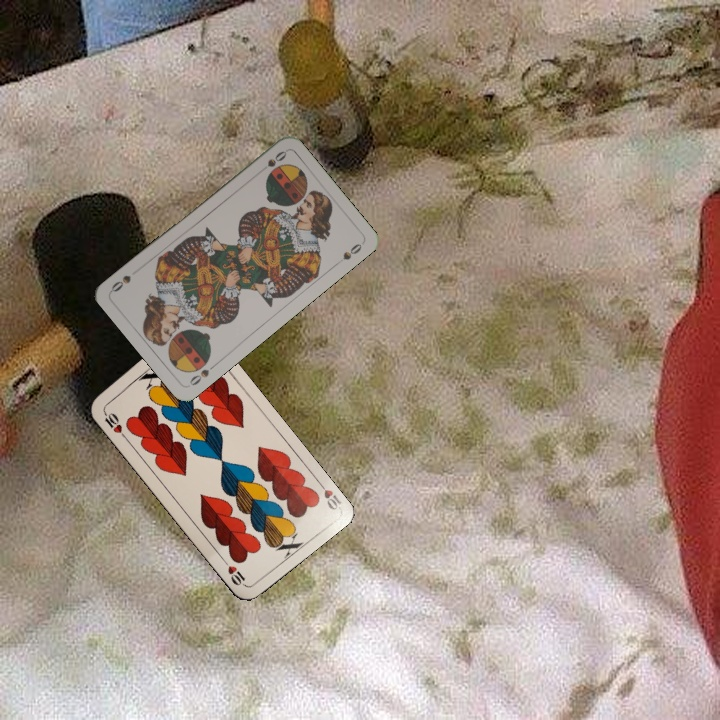H10: (313, 476, 344, 513), (99, 406, 128, 441)
SO: (254, 147, 289, 177), (185, 359, 219, 388)
